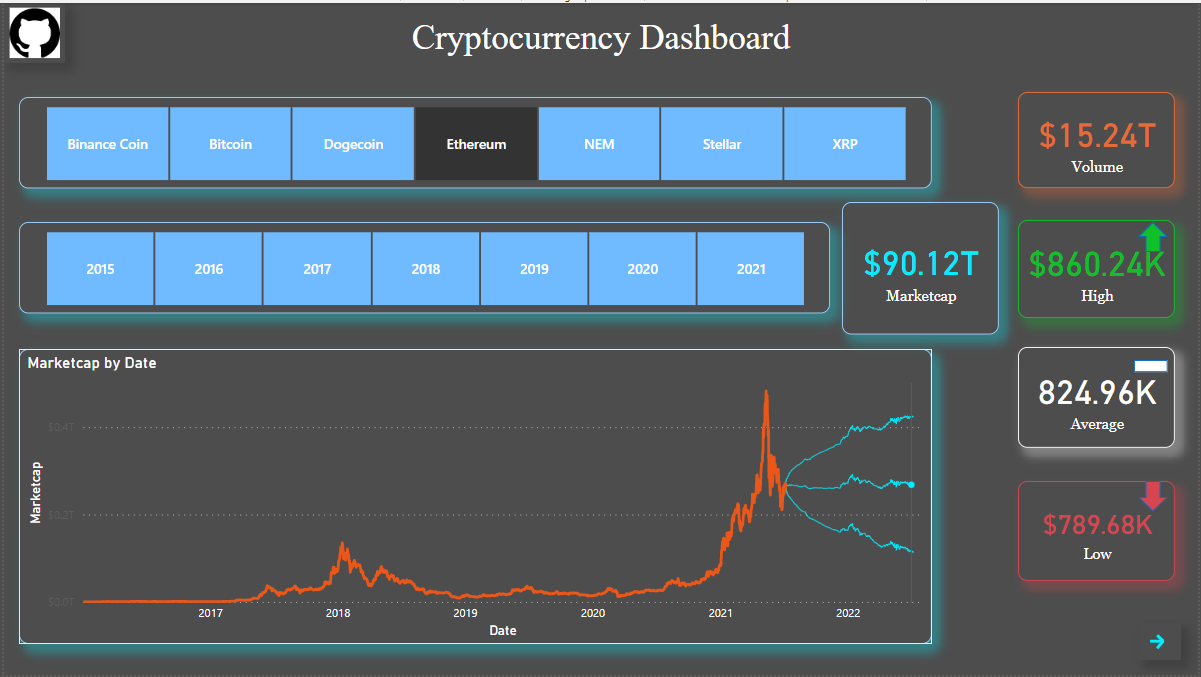

The page's visual inventory and layout, read from the dashboard file:
{"tool":"powerbi","page":{"name":"Page 1","canvas":[1280,720],"ordinal":0},"visuals":[{"type":"slicer","fields":{"Values":["Sheet1.Name"]},"box":[16.6,100.7,977.8,98.2],"z":0},{"type":"slicer","fields":{"Values":["Sheet1.Year"]},"box":[16.6,234.6,869.5,98.2],"z":1},{"type":"lineChart","fields":{"Y":["Sum(Sheet1.Marketcap)"],"Category":["Sheet1.Date"]},"box":[16.6,371,977.8,316.2],"z":2},{"type":"actionButton","box":[1215,664.2,45.9,39.5],"z":3},{"type":"textbox","box":[408,10.2,462.8,58.6],"z":4},{"type":"image","box":[0,0,65,63.7],"z":5},{"type":"card","fields":{"Values":["Sum(Sheet1.Marketcap)"]},"box":[897.5,212.9,168.3,141.5],"z":6},{"type":"card","fields":{"Values":["Sum(Sheet1.Average)"]},"box":[1086.2,368.4,168.3,108.4],"z":7},{"type":"card","fields":{"Values":["Sum(Sheet1.High)"]},"box":[1086.2,232,168.3,104.5],"z":8},{"type":"card","fields":{"Values":["Sum(Sheet1.Volume)"]},"box":[1086.2,95.6,168.3,103.3],"z":9},{"type":"card","fields":{"Values":["Sum(Sheet1.Low)"]},"box":[1086.2,512.5,168.3,107.1],"z":10},{"type":"shape","box":[1215,234.6,31.9,31.9],"z":11},{"type":"shape","box":[1215,512.5,31.9,33.1],"z":12},{"type":"shape","box":[1211.2,382.5,35.7,12.7],"z":13}]}

Visuals, with their boxes in screenshot pixels (x1, y1, x2, y2), scaled from the page's 1280x720 canvas onto the 1201x677 screenshot:
slicer - Sheet1.Name: <box>16,95,933,187</box>
slicer - Sheet1.Year: <box>16,221,831,313</box>
lineChart - Sum(Sheet1.Marketcap) x Sheet1.Date: <box>16,349,933,646</box>
actionButton: <box>1140,625,1183,662</box>
textbox: <box>383,10,817,65</box>
image: <box>0,0,61,60</box>
card - Sum(Sheet1.Marketcap): <box>842,200,1000,333</box>
card - Sum(Sheet1.Average): <box>1019,346,1177,448</box>
card - Sum(Sheet1.High): <box>1019,218,1177,316</box>
card - Sum(Sheet1.Volume): <box>1019,90,1177,187</box>
card - Sum(Sheet1.Low): <box>1019,482,1177,583</box>
shape: <box>1140,221,1170,251</box>
shape: <box>1140,482,1170,513</box>
shape: <box>1136,360,1170,372</box>
